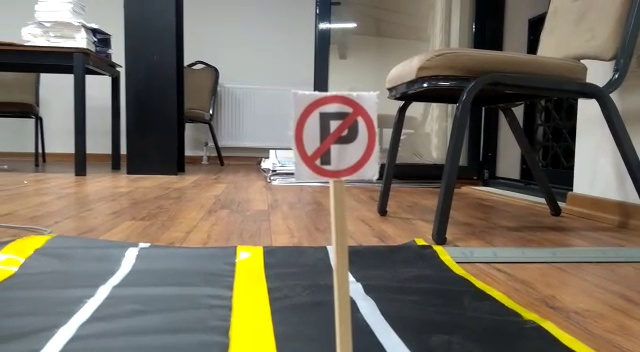park_yapilmaz: (295, 94, 377, 176)
